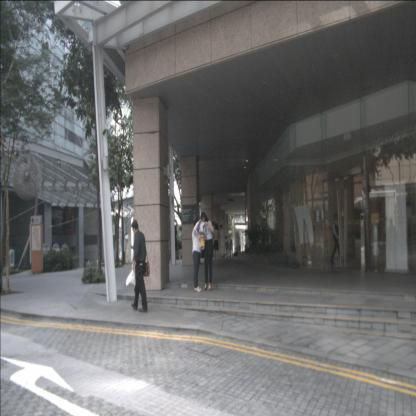human-pedestrian-adult: (126, 219, 150, 314), (201, 211, 214, 292), (329, 212, 344, 265), (192, 218, 202, 293), (386, 218, 398, 270), (213, 223, 220, 266), (228, 235, 233, 257), (225, 236, 228, 256)
